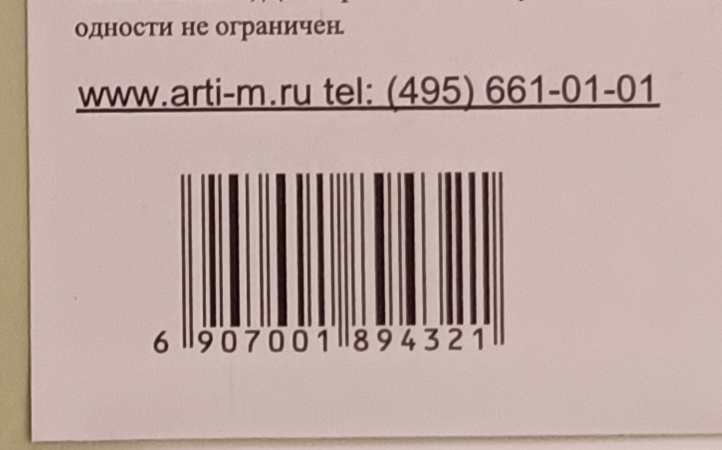1d: (173, 169, 510, 330)
